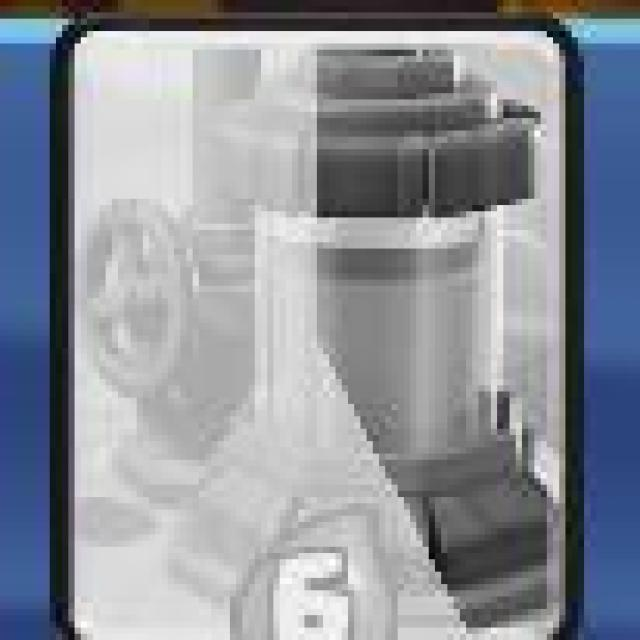Elixir_Pump: (69, 31, 577, 640)
